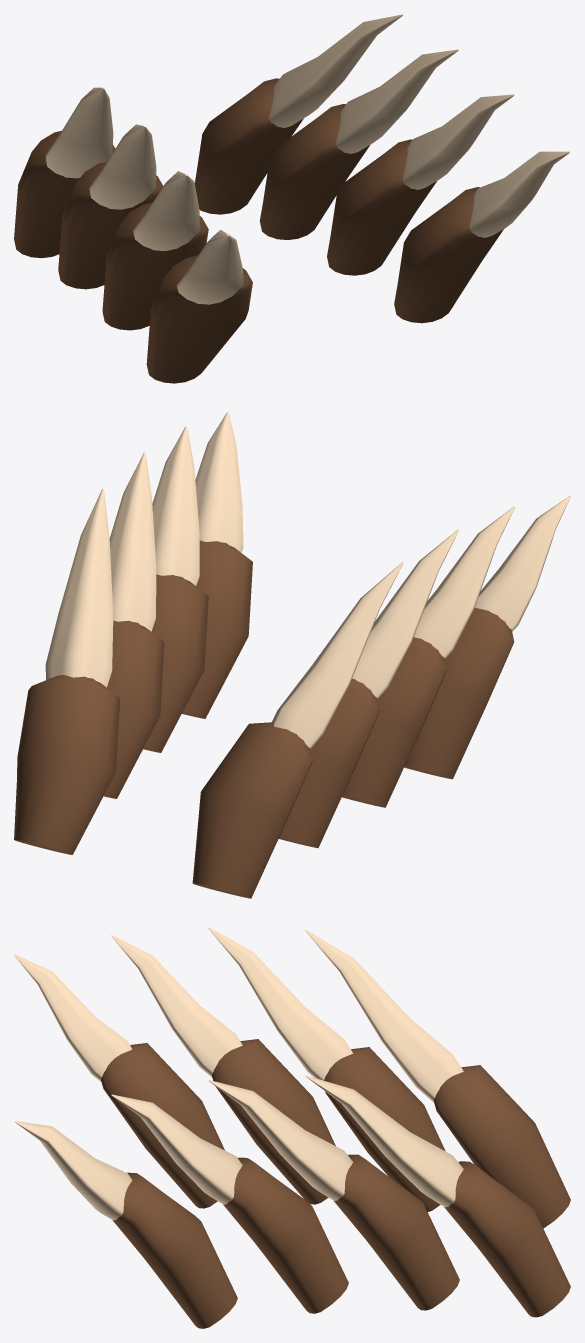
The model's file is shooter_quills.glb.
3 views of the same model, one above another, from view 1: azimuth 30°, elevation 25°; view 2: azimuth 150°, elevation 25°; view 3: azimuth 270°, elevation 25° (orthographic).
Parts seen in each view (by area): view 1: shooter_quills; view 2: shooter_quills; view 3: shooter_quills.
Boxes of the visible parts, box(x1,y1,x2,y2) form: shooter_quills: box(14, 14, 569, 383); shooter_quills: box(14, 412, 570, 898); shooter_quills: box(14, 927, 570, 1328).
Size of the model in its own units: 0.8304 by 0.5971 by 1.14.
